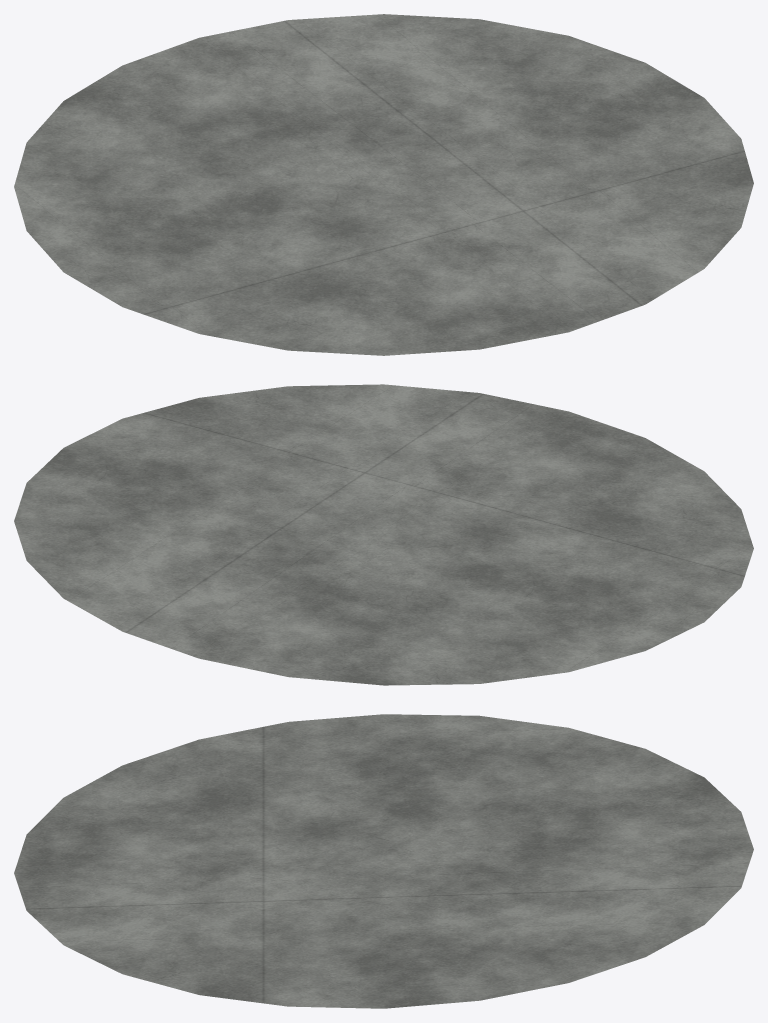
The model's file is INT-J-006.obj.
The picture shows the model from 3 angles, top to bottom: view 1: azimuth 30°, elevation 25°; view 2: azimuth 150°, elevation 25°; view 3: azimuth 270°, elevation 25°; orthographic projection.
Parts seen in each view (by area): view 1: INT-J-006; view 2: INT-J-006; view 3: INT-J-006.
Boxes of the visible parts, x1,y1,x2,y2 form: INT-J-006: (14,14,753,355); INT-J-006: (14,384,753,685); INT-J-006: (14,714,753,1008).
Size of the model in its own units: 6 by 0.2629 by 6.
Materials: 1 (1 with a texture image).
